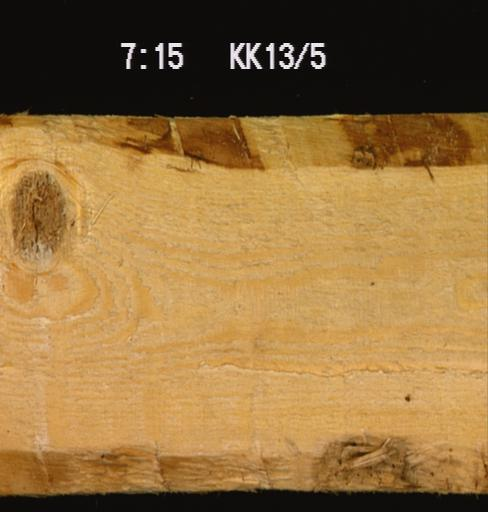small_knot: (400, 389, 412, 406)
sound_knot: (4, 167, 68, 263)
wave: (0, 433, 485, 491), (0, 113, 484, 166)
